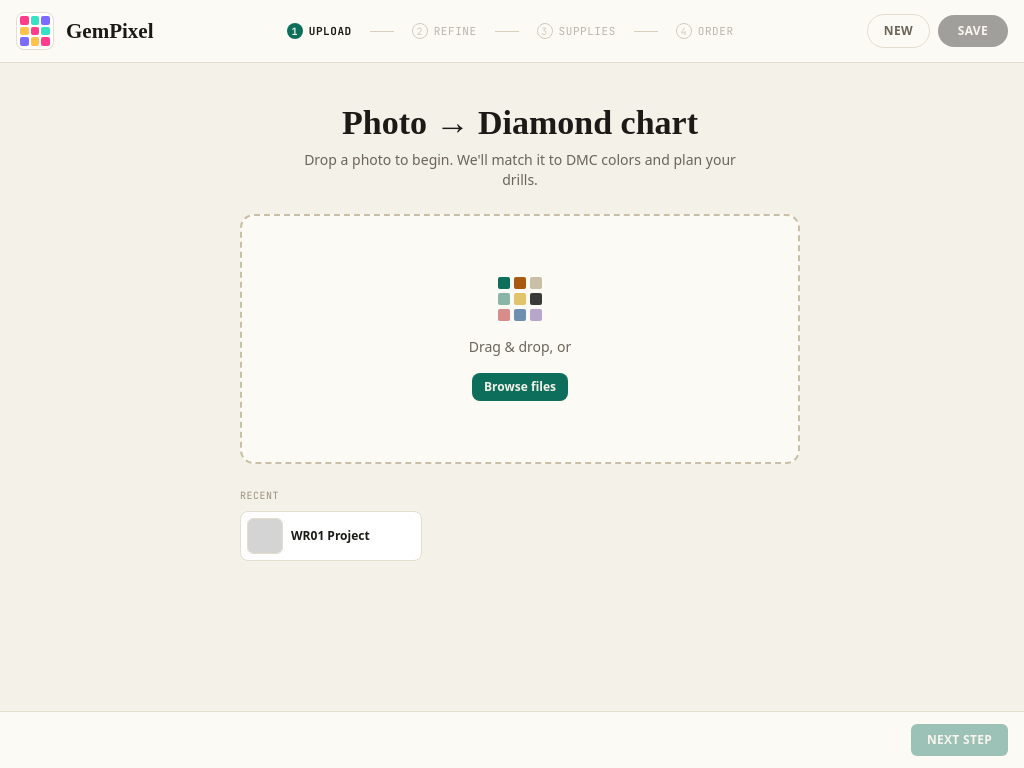
Test: WR-01 — Order state (finish · ship-to PII · canvasDownloaded · cartOpened) does not leak across load/reset › sets canvasDownloaded from a PNG download (not just the packet) — cart stays independent
The image size is (1024, 768).
Click the button "WR01 Project" at (308, 536), box [247, 518, 370, 554]
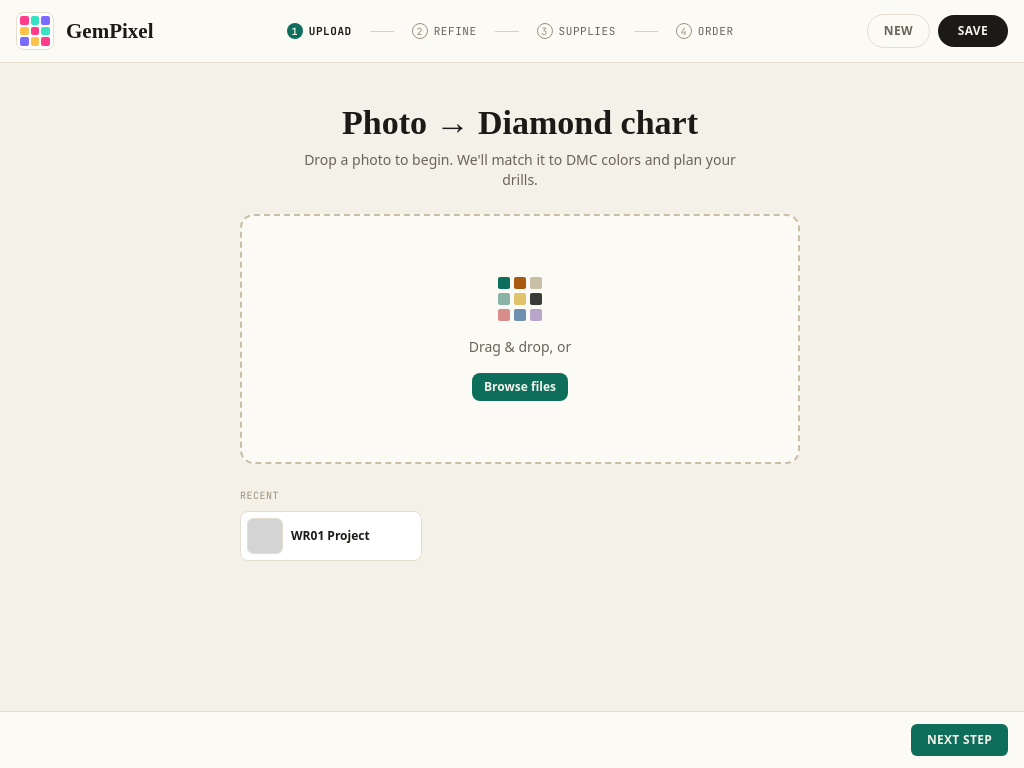
Click the button with id "wizard-next-btn" at (959, 740), box [911, 724, 1008, 756]
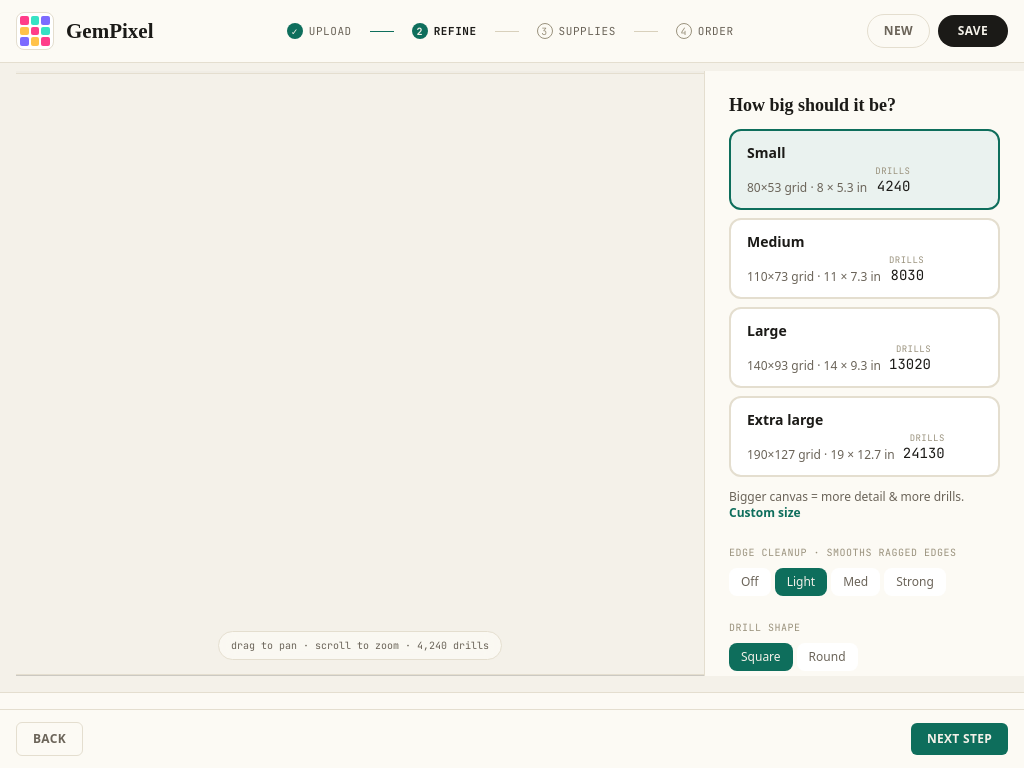
Click the button with id "wizard-next-btn" at (959, 739), box [911, 723, 1008, 755]
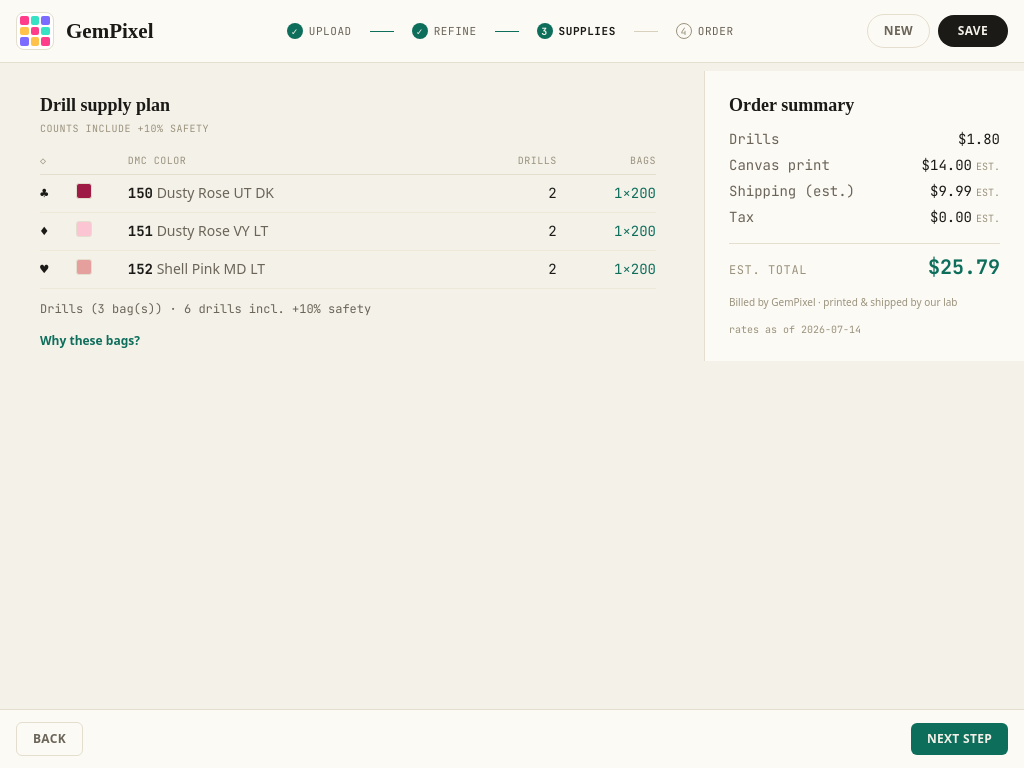
Click the button with id "wizard-next-btn" at (959, 739), box [911, 723, 1008, 755]
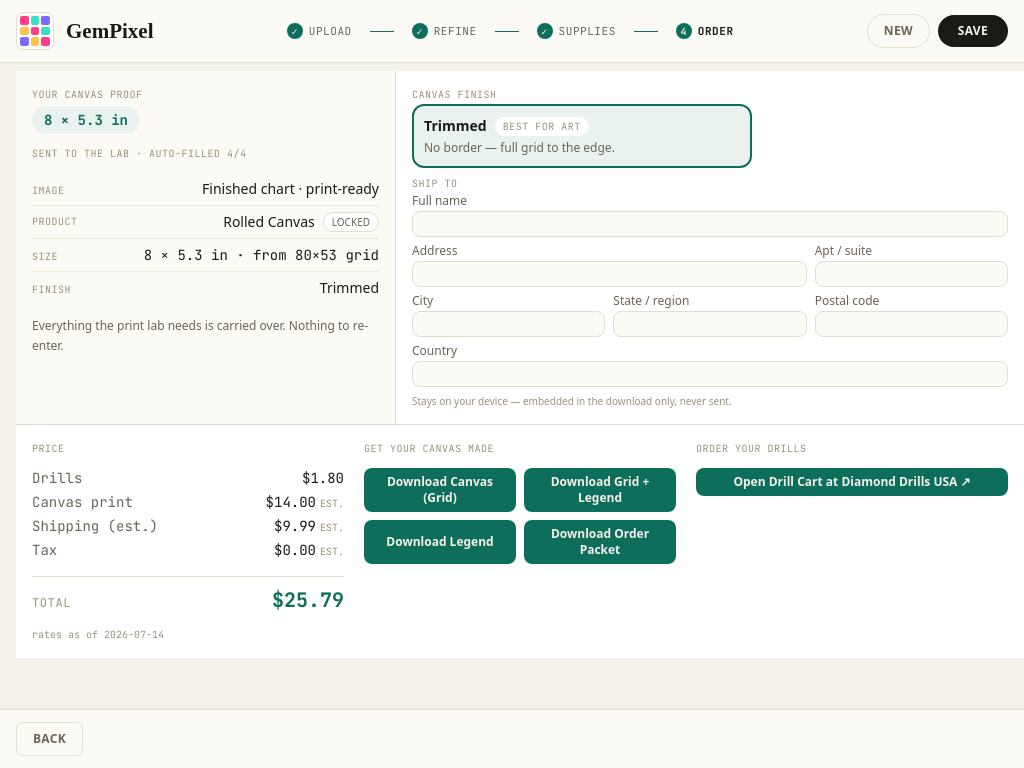
Click the button with test id "order-download-canvas-cta" at (440, 490), box [364, 468, 516, 512]
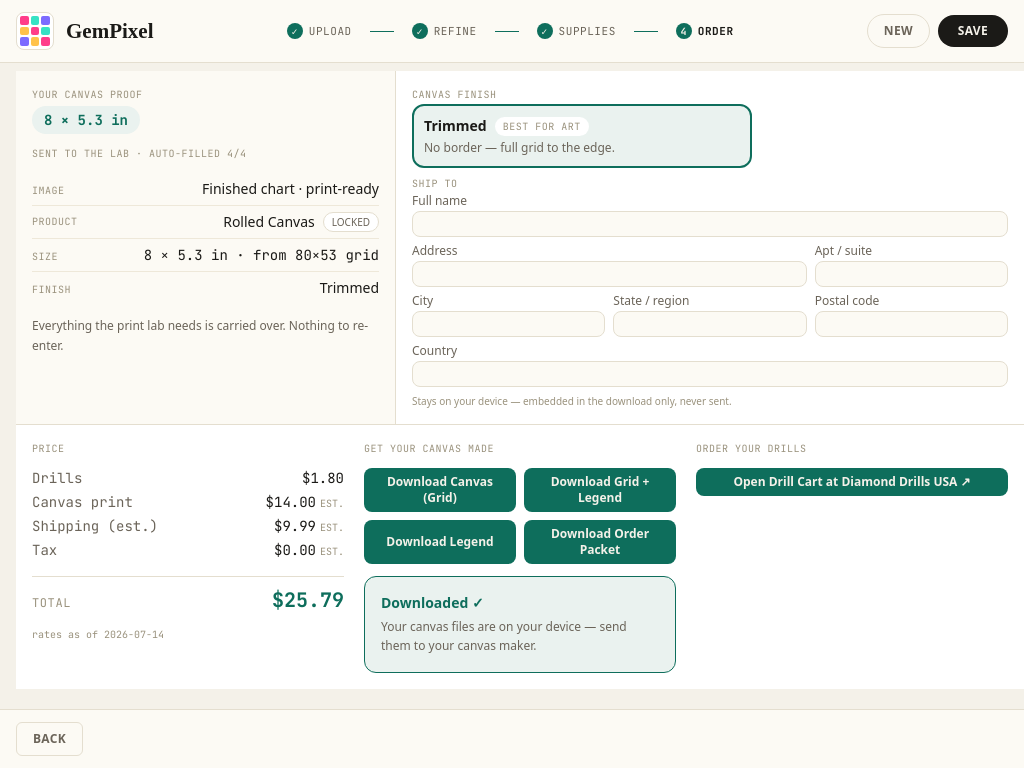
Result: the element with test id "order-canvas-terminal" is shown at [364, 576, 676, 672]
